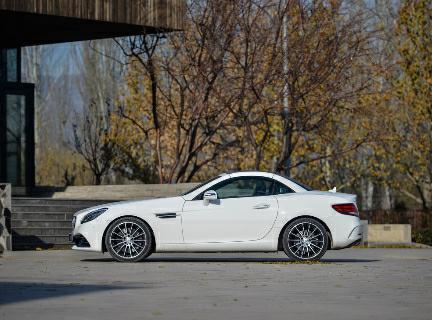奔驰-SLC: (65, 167, 371, 267)
